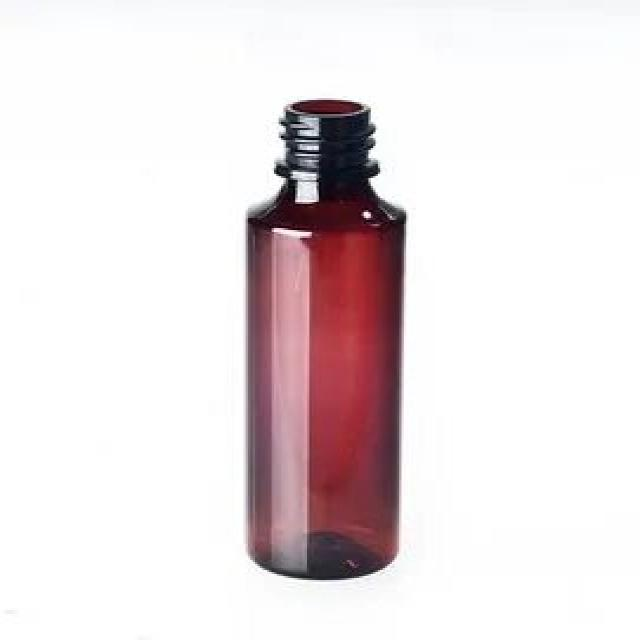brown: (248, 99, 407, 584)
